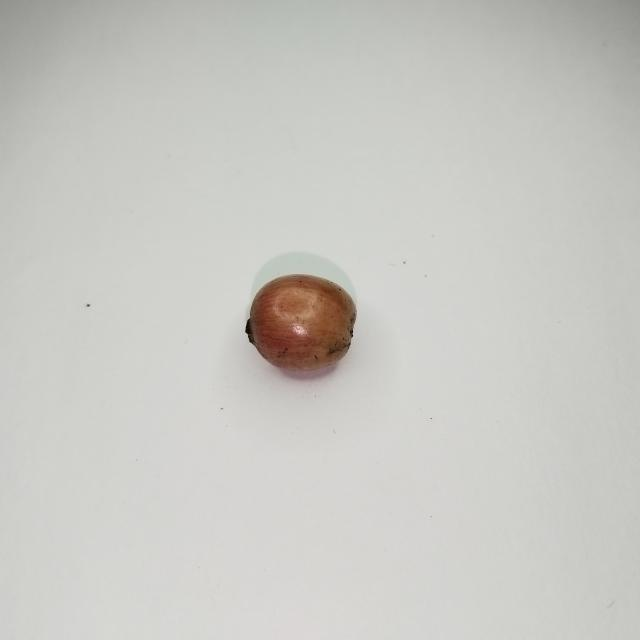Sano: (242, 272, 356, 375)
